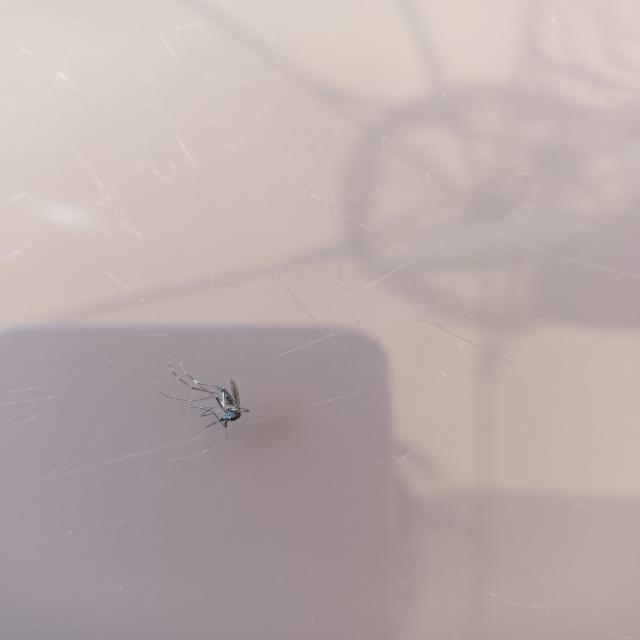albopictus: (153, 356, 256, 439)
